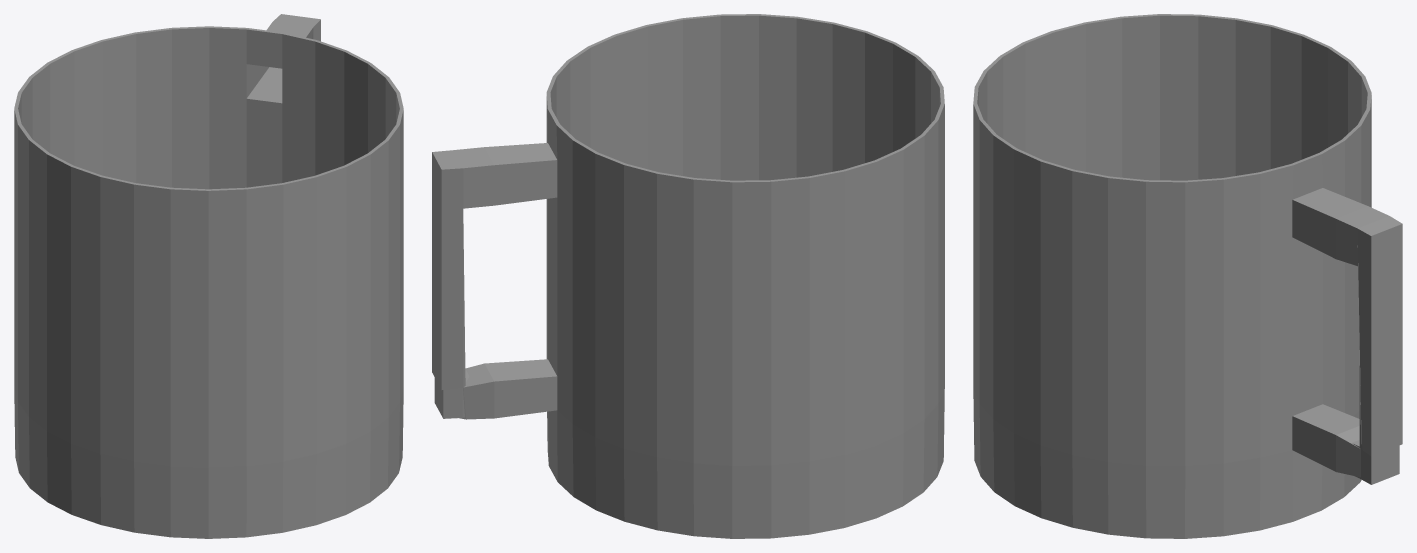
The model's file is coffee-mug--3.gltf.
3 renders of one model, left to right at view 1: azimuth 30°, elevation 25°; view 2: azimuth 150°, elevation 25°; view 3: azimuth 270°, elevation 25°, orthographic. The views are drawn at different scales.
Visible parts, largest first — view 1: Mug; view 2: Mug; view 3: Mug.
Part boxes in pixels (left/top/right/bottom): Mug: left=14, top=14, right=403, bottom=538; Mug: left=432, top=14, right=944, bottom=538; Mug: left=973, top=14, right=1402, bottom=538.
Size of the model in its own units: 0.1133 by 0.1 by 0.109.
Materials: 1 (1 with a texture image).
